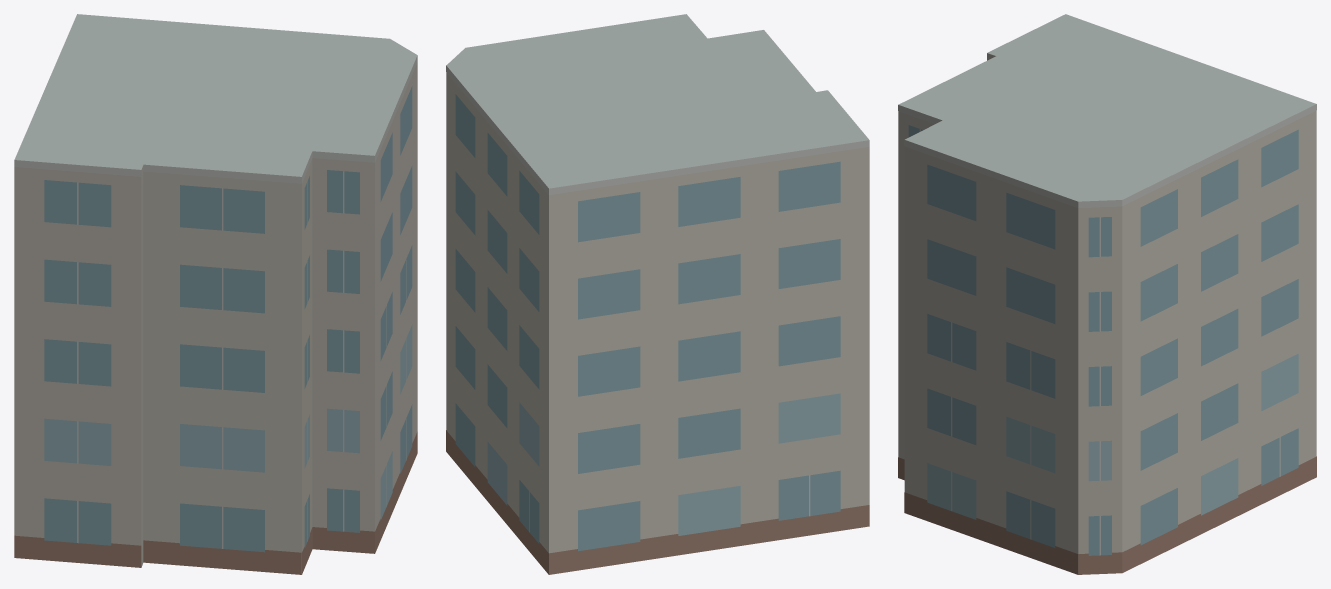
Rendered from survey-upis-32969872.glb.
The picture shows the model from 3 angles, left to right: view 1: azimuth 30°, elevation 25°; view 2: azimuth 150°, elevation 25°; view 3: azimuth 270°, elevation 25°; orthographic projection. The views are drawn at different scales.
Visible parts, largest first — view 1: survey-upis-32969872.tmp; view 2: survey-upis-32969872.tmp; view 3: survey-upis-32969872.tmp.
Boxes of the visible parts, x1,y1,x2,y2 form: survey-upis-32969872.tmp: (14,14,417,574); survey-upis-32969872.tmp: (446,14,869,574); survey-upis-32969872.tmp: (898,14,1316,574).
Bounding box in the file's own units: 15.31 × 14.2 × 14.44.
